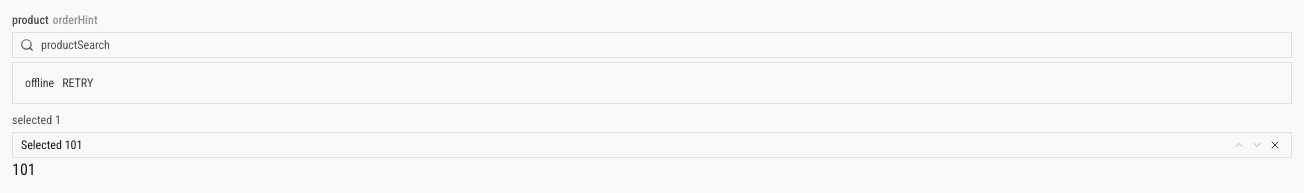
Test case: EntitySelector admin product access › shows list failure, retries and ignores an older search response
Expected: the text "Selected 101" is shown, [21,138,82,152]
Expected: the message "offline retry" is shown, [25,71,101,95]
Click the button "retry" at [78, 83], box [54,71,101,95]
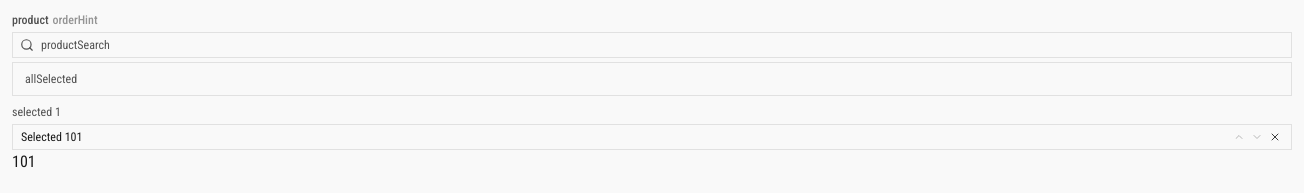
Type "old" into the field with placeholder "productSearch" at [652, 45], box [12,32,1292,58]
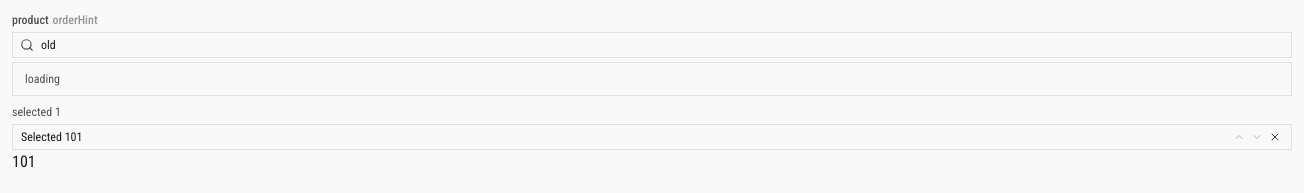
Replace the text in the field with placeholder "productSearch" with "new" at [652, 45], box [12,32,1292,58]
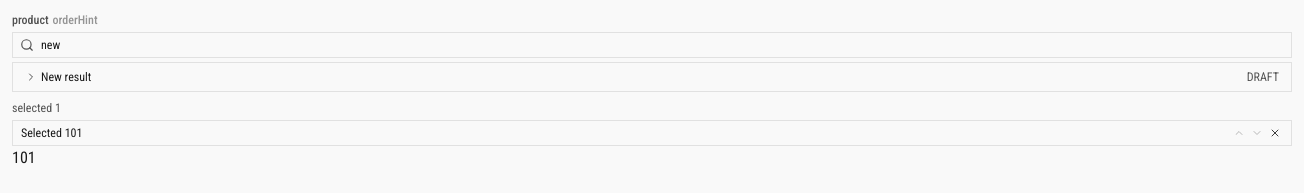
Expected: the text "101" is shown, [12,148,36,167]
Now the text "New result" is shown, box [41,69,91,85]
